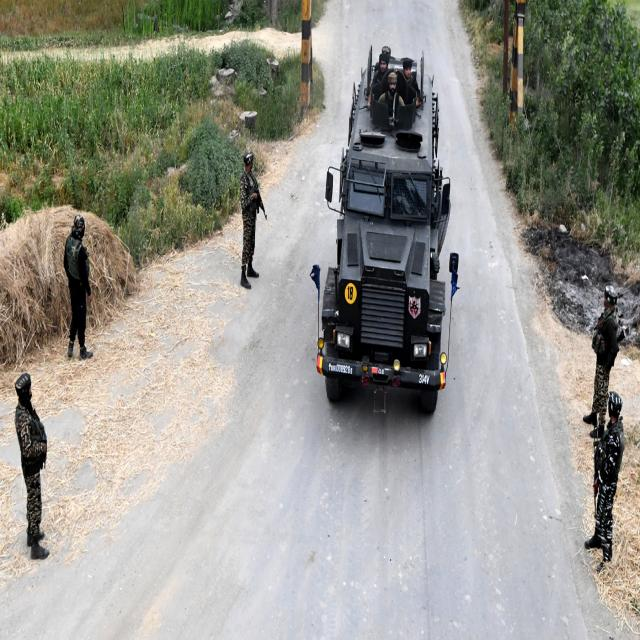military-plate: (328, 361, 354, 375)
unit number: (418, 372, 430, 384)
